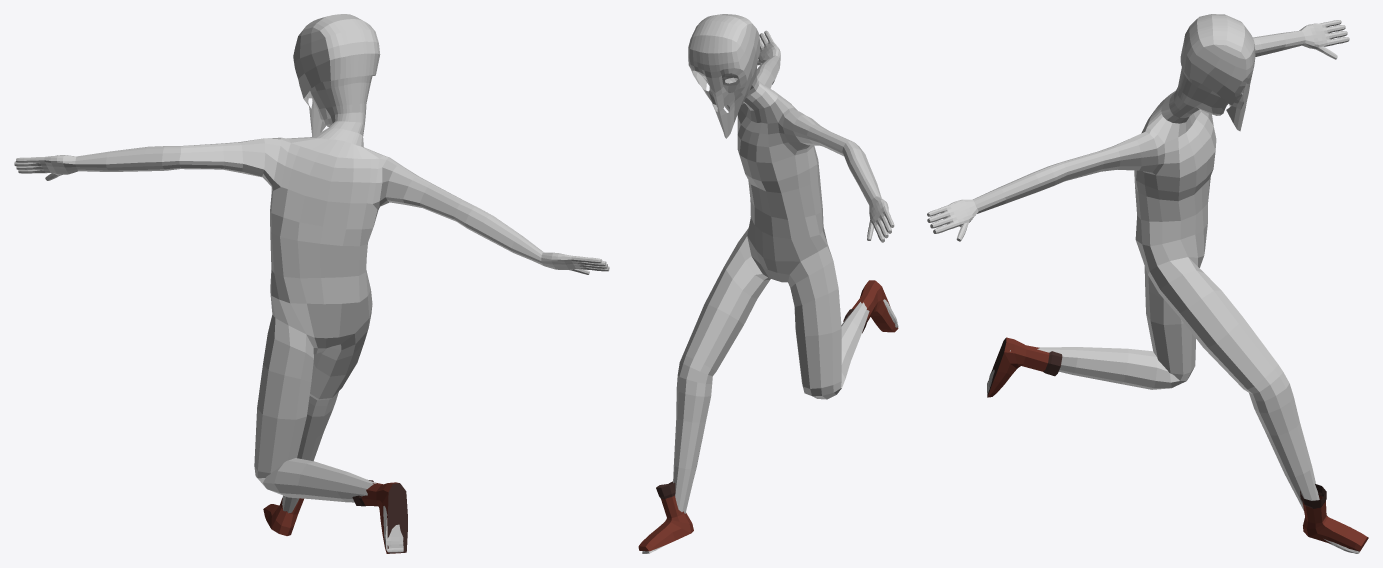
File: saltoadelante_000120.obj
3 renders of one model, left to right at view 1: azimuth 30°, elevation 25°; view 2: azimuth 150°, elevation 25°; view 3: azimuth 270°, elevation 25°, orthographic. The views are drawn at different scales.
Parts seen in each view (by area): view 1: Plane.002_Plane.001, Plane.004, Plane.003; view 2: Plane.002_Plane.001, Plane.003, Plane.004; view 3: Plane.002_Plane.001, Plane.004, Plane.003.
Boxes of the visible parts, x1,y1,x2,y2 form: Plane.002_Plane.001: (14, 14, 609, 552); Plane.004: (352, 480, 407, 553); Plane.003: (263, 498, 303, 535); Plane.002_Plane.001: (642, 14, 898, 553); Plane.003: (638, 481, 693, 551); Plane.004: (843, 280, 898, 333); Plane.002_Plane.001: (927, 14, 1359, 553); Plane.004: (987, 337, 1062, 397); Plane.003: (1300, 484, 1368, 551).
Bounding box in the file's own units: 4.61 × 6.54 × 4.98.
